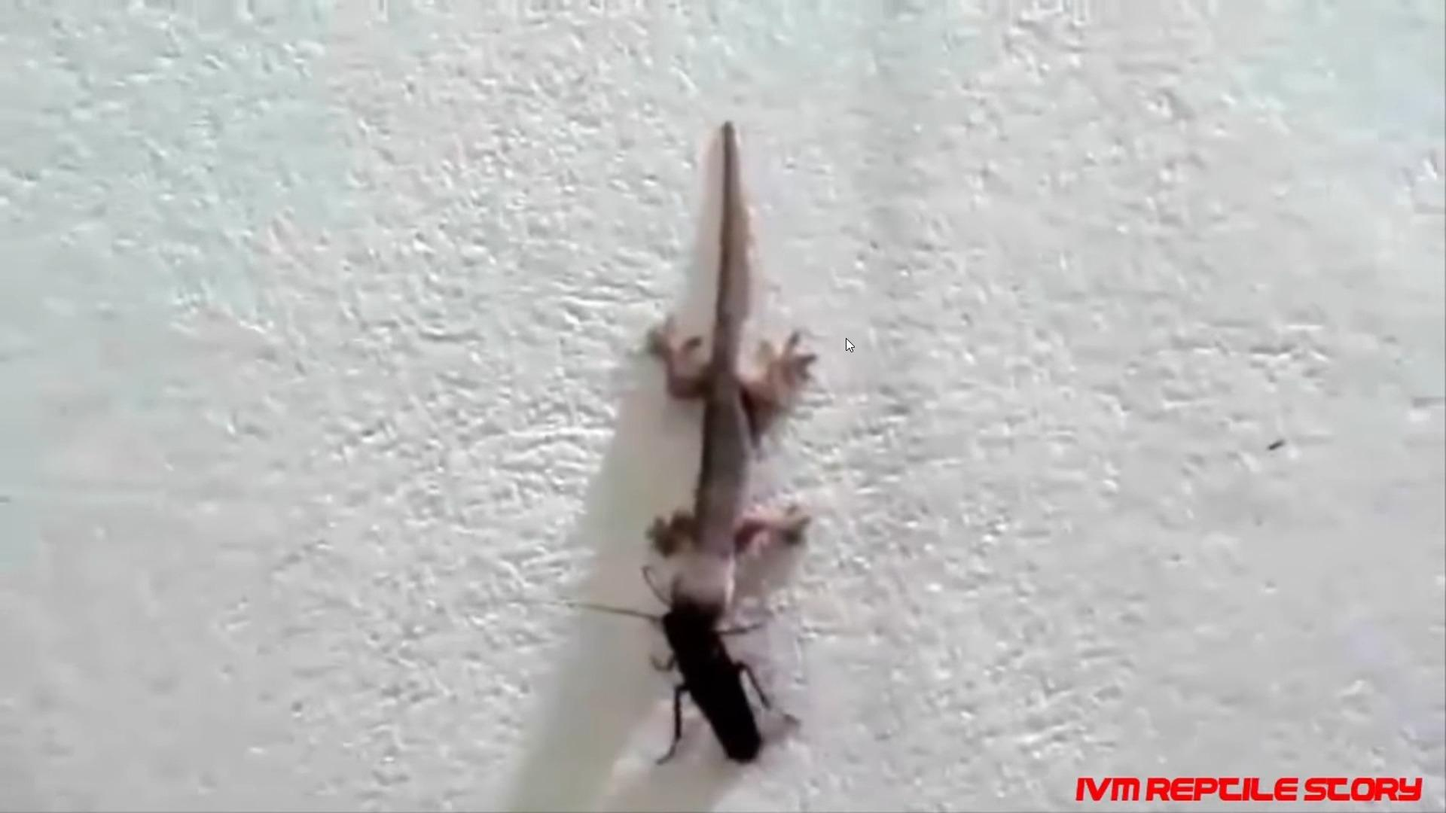cockroach: (649, 608, 777, 776)
lizard: (638, 159, 820, 624)
